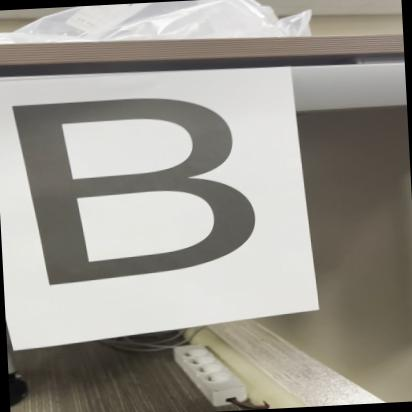seat: (0, 79, 298, 297)
